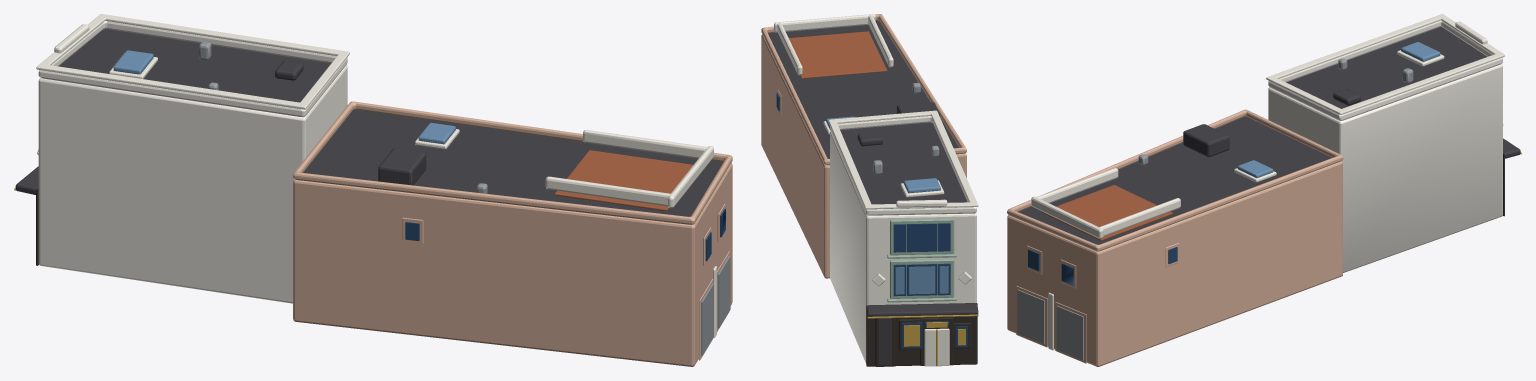
File: 155-south-park.optimized.glb
3 renders of one model, left to right at view 1: azimuth 30°, elevation 25°; view 2: azimuth 150°, elevation 25°; view 3: azimuth 270°, elevation 25°, orthographic. The views are drawn at different scales.
Parts seen in each view (by area): view 1: rear_block, front_block, grp_Toy_trim, grp_Toy_peach, parapet, deck_boards, grp_Toy_roofd, grp_Toy_steel, grp_Toy_glassl, grp_Toy_glass; view 2: front_block, rear_block, grp_Toy_trim, deck_boards, grp_Toy_ink, grp_Toy_glass, grp_Toy_roofd, grp_Toy_verdigris, grp_Toy_peach, parapet, grp_Toy_glass_Glow, grp_Toy_gold_Glow (+3 smaller); view 3: rear_block, front_block, grp_Toy_trim, grp_Toy_peach, parapet, grp_Toy_steel, deck_boards, grp_Toy_roofd, grp_Toy_glassl, grp_Toy_glass.
Boxes of the visible parts, <box> form: rear_block: <box>293,109,732,366</box>; front_block: <box>38,29,347,303</box>; grp_Toy_trim: <box>36,14,716,337</box>; grp_Toy_peach: <box>293,101,732,360</box>; parapet: <box>38,21,347,116</box>; deck_boards: <box>554,150,692,210</box>; grp_Toy_roofd: <box>15,60,426,194</box>; grp_Toy_steel: <box>199,42,730,355</box>; grp_Toy_glassl: <box>113,50,455,144</box>; grp_Toy_glass: <box>405,208,725,261</box>; front_block: <box>830,122,976,363</box>; rear_block: <box>761,20,966,278</box>; grp_Toy_trim: <box>774,14,978,366</box>; deck_boards: <box>788,31,887,78</box>; grp_Toy_ink: <box>866,303,977,366</box>; grp_Toy_glass: <box>776,93,967,348</box>; grp_Toy_roofd: <box>857,102,978,364</box>; grp_Toy_verdigris: <box>887,218,956,302</box>; grp_Toy_peach: <box>761,14,966,165</box>; parapet: <box>830,116,976,215</box>; grp_Toy_glass_Glow: <box>895,266,948,294</box>; grp_Toy_gold_Glow: <box>904,322,965,346</box>; rear_block: <box>1007,116,1342,366</box>; front_block: <box>1268,27,1502,272</box>; grp_Toy_trim: <box>1031,14,1504,350</box>; grp_Toy_peach: <box>1007,109,1343,363</box>; parapet: <box>1268,20,1502,120</box>; grp_Toy_steel: <box>1017,58,1413,360</box>; deck_boards: <box>1042,185,1173,240</box>; grp_Toy_roofd: <box>1183,89,1520,158</box>; grp_Toy_glassl: <box>1237,42,1440,177</box>; grp_Toy_glass: <box>1028,247,1177,285</box>.
Bounding box in the file's own units: 25.52 × 10.1 × 28.29.
